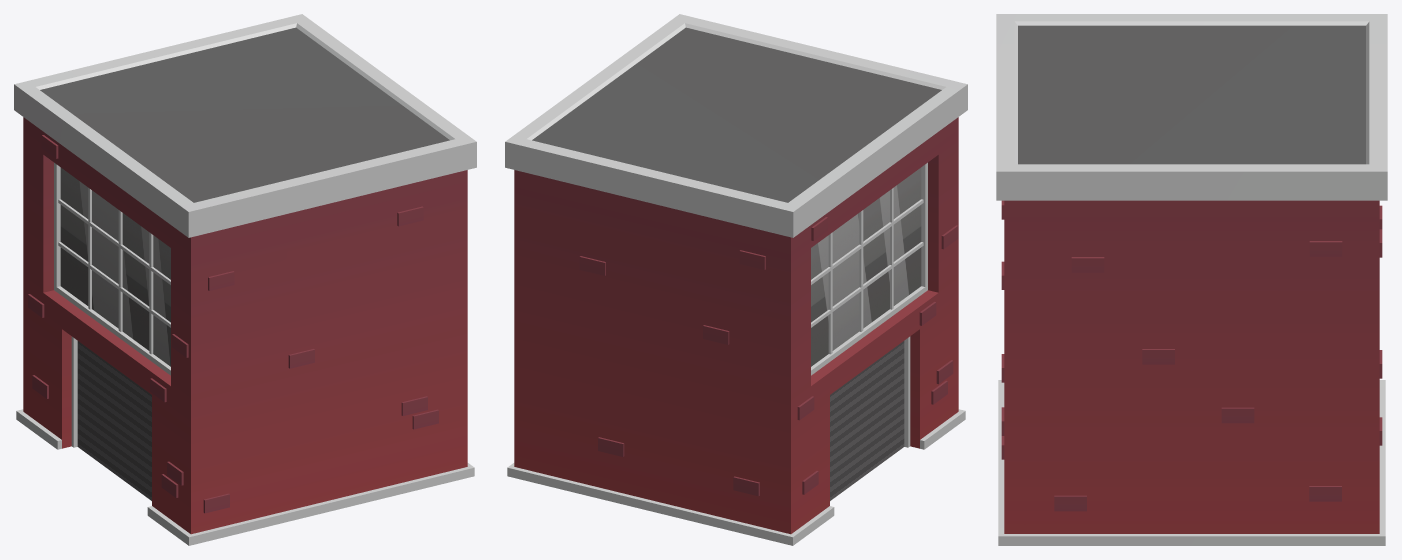
The model's file is Building_10_I.fbx.
3 views of the same model, side by side, from view 1: azimuth 30°, elevation 25°; view 2: azimuth 150°, elevation 25°; view 3: azimuth 270°, elevation 25° (orthographic). The views are drawn at different scales.
Parts seen in each view (by area): view 1: Building_10_I; view 2: Building_10_I; view 3: Building_10_I.
Part boxes in pixels (x1=…): Building_10_I: x1=14, y1=14, x2=476, y2=545; Building_10_I: x1=505, y1=14, x2=967, y2=545; Building_10_I: x1=996, y1=14, x2=1387, y2=545.
Bounding box in the file's own units: 701 × 779 × 736.
